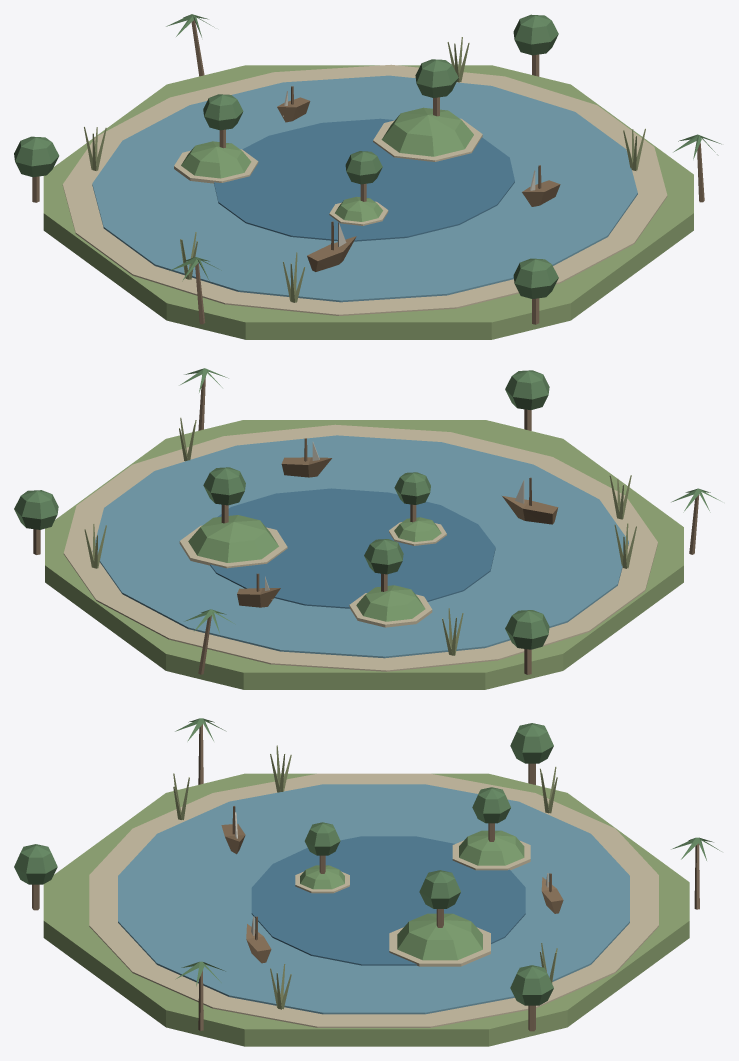
Rendered from lake-victoria.glb.
The picture shows the model from 3 angles, top to bottom: view 1: azimuth 30°, elevation 25°; view 2: azimuth 150°, elevation 25°; view 3: azimuth 270°, elevation 25°; orthographic projection.
Visible parts, largest first — view 1: LOD0; view 2: LOD0; view 3: LOD0.
Part boxes in pixels (x1,y1,x2,y2): LOD0: (14,14,721,339); LOD0: (14,368,721,689); LOD0: (14,718,721,1046).
Size of what is drawn, in the model's own units: 1.71 by 0.294 by 1.93.
